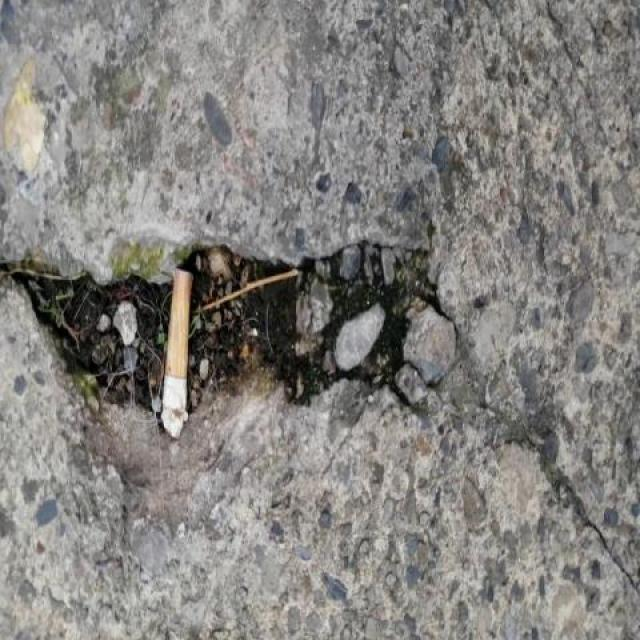non-organic waste: (157, 261, 199, 420)
